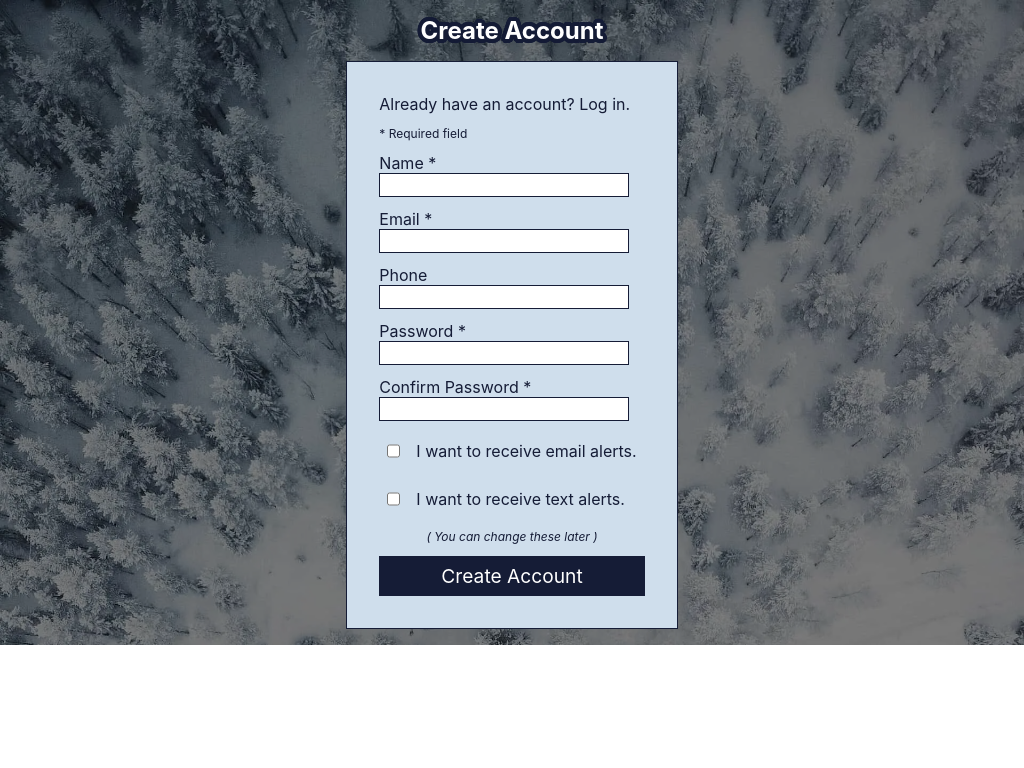
Scenario: Displays password validation error properly
expect the text "Password must be at least 6 characters with 1 letter and 1 number." is not shown: met
In the password field labelled "Password *": (504, 353) [379,341,629,365], type "test5"
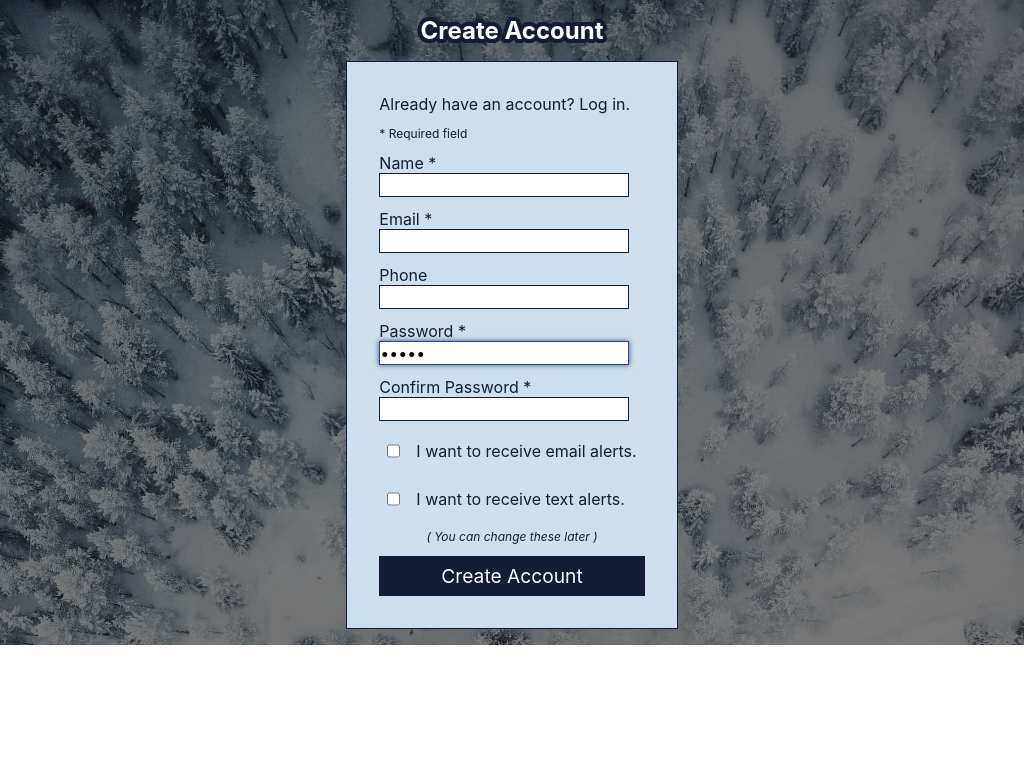
Click the element that starts with "Create Account": (512, 384) [0,0,1023,767]
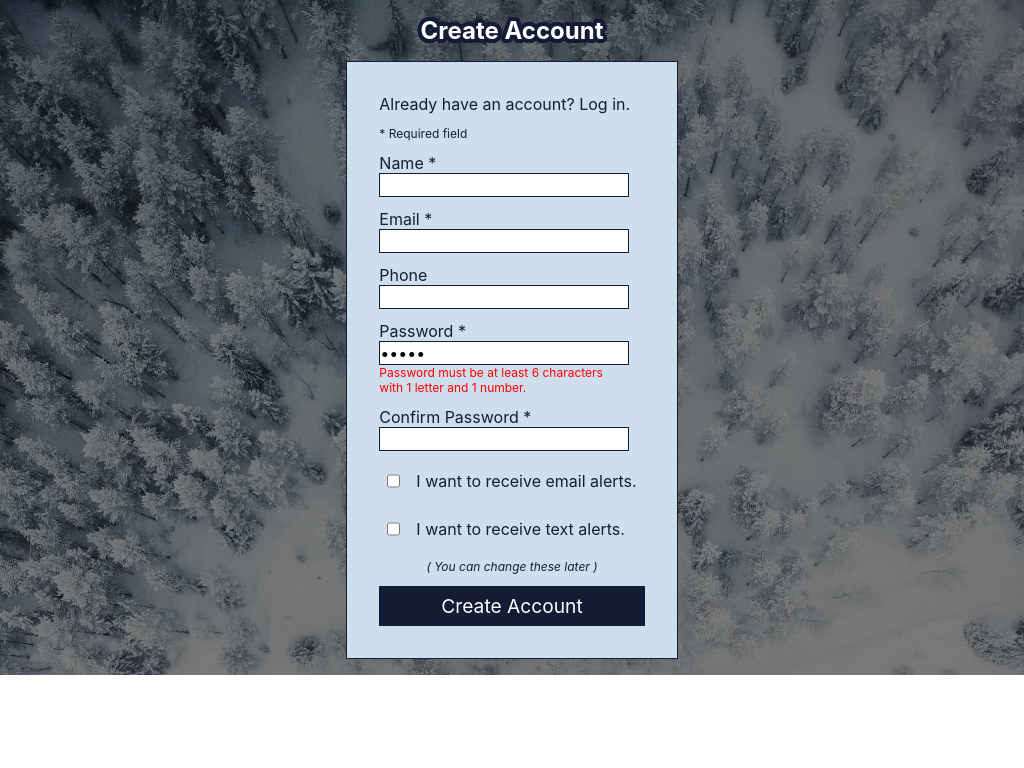
expect the text "Password must be at least 6 characters with 1 letter and 1 number." is shown: met, box [379,365,629,395]
Note: Acceptable password
In the password field labelled "Password *": (504, 353) [379,341,629,365], type "whatagreatpassword123"
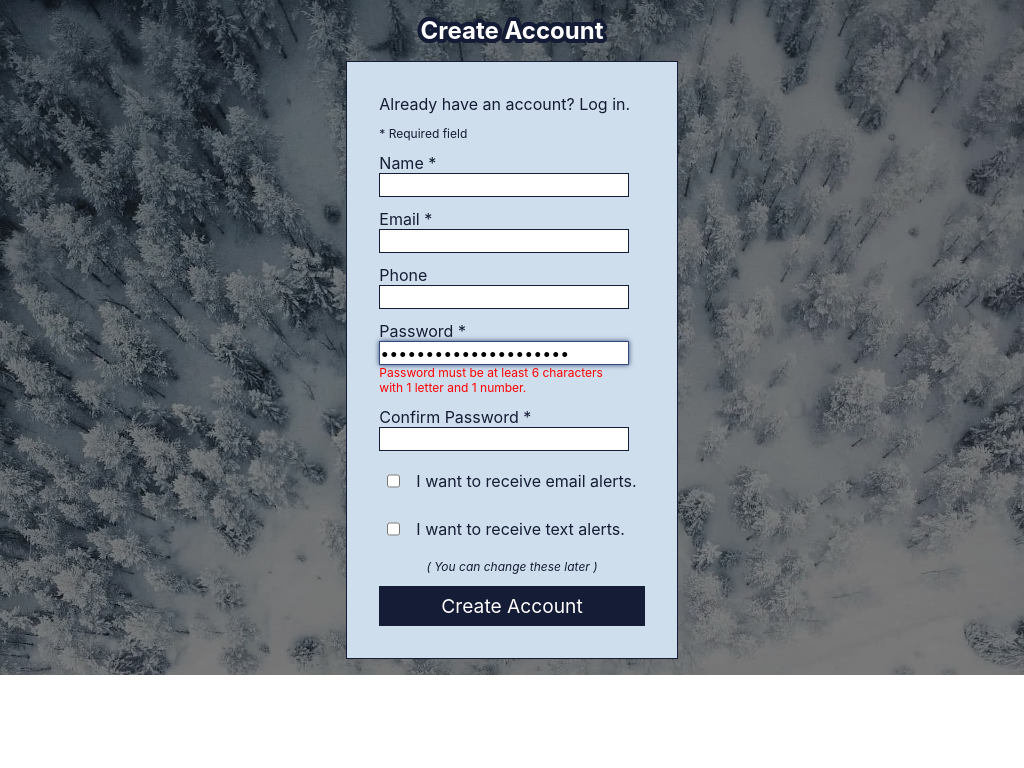
Click the element that starts with "Create Account": (512, 384) [0,0,1023,767]
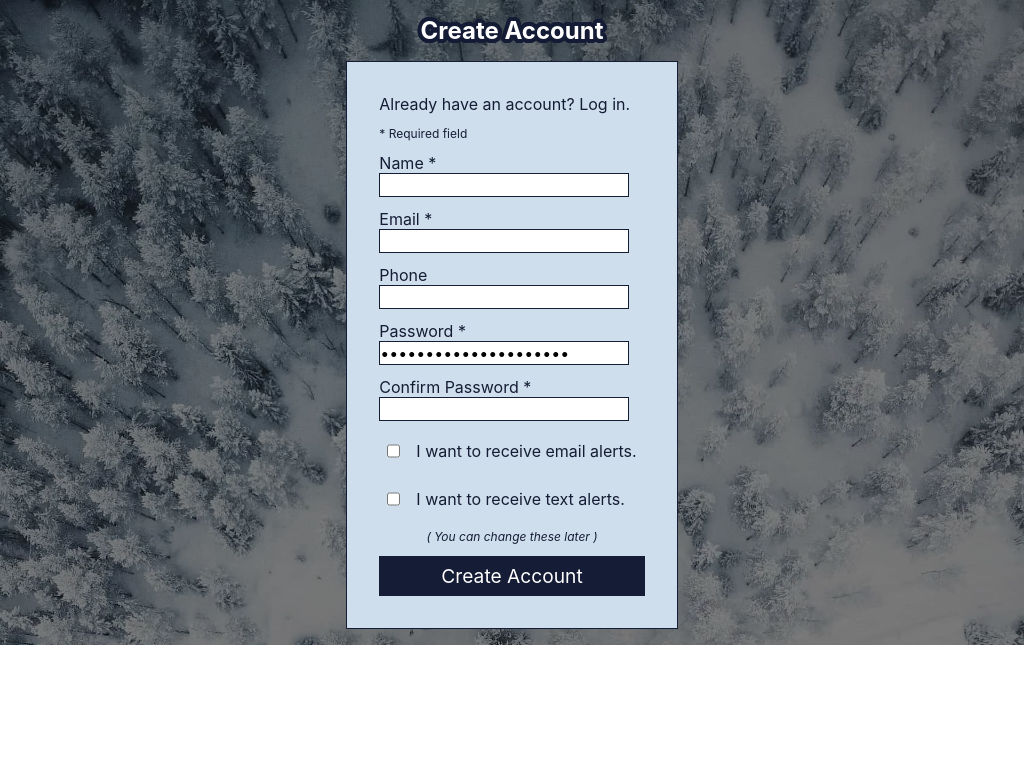
expect the text "Password must be at least 6 characters with 1 letter and 1 number." is gone: met
Note: Password without number
In the password field labelled "Password *": (504, 353) [379,341,629,365], type "longpassword"
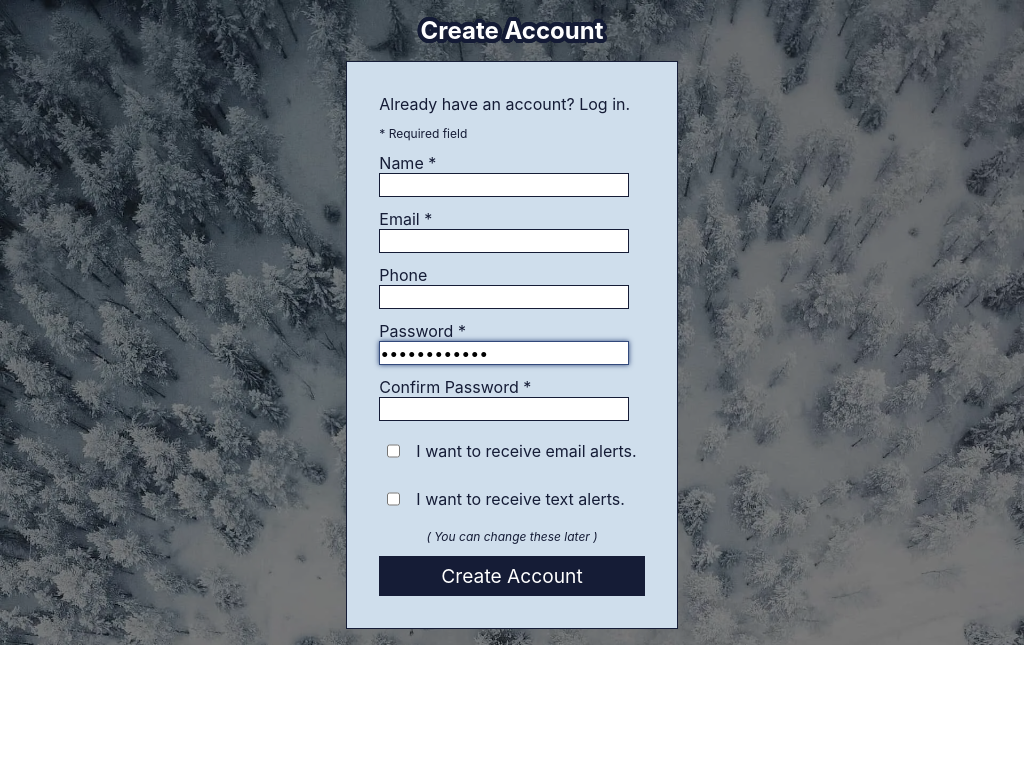
Click the element that starts with "Create Account": (512, 384) [0,0,1023,767]
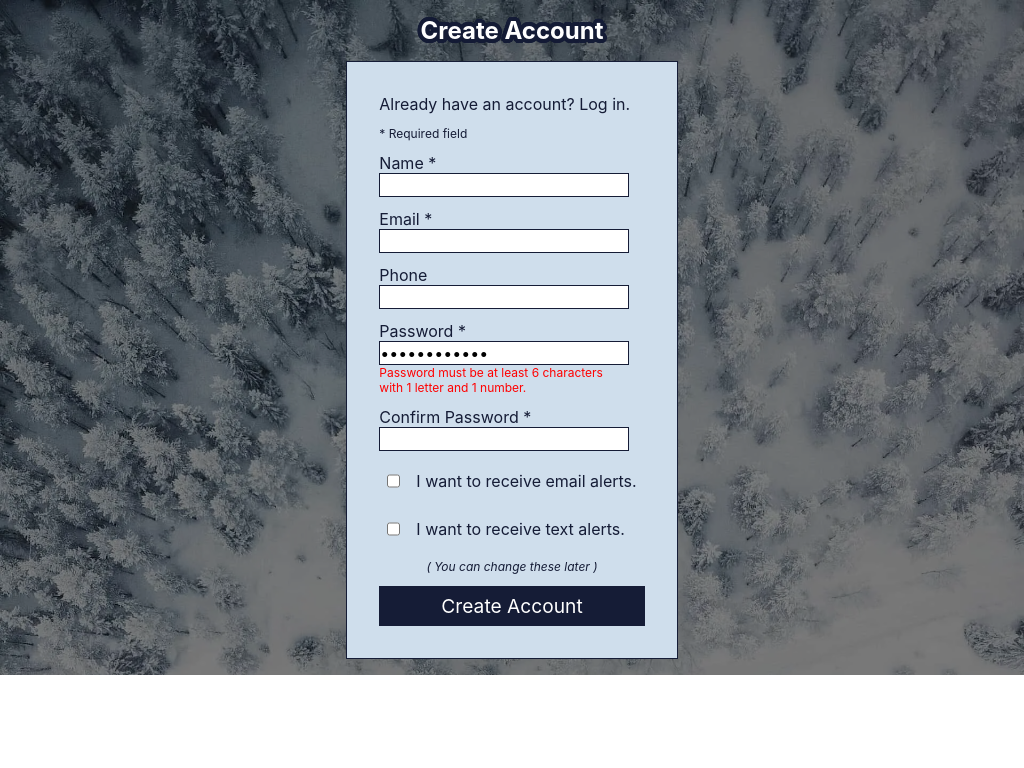
expect the text "Password must be at least 6 characters with 1 letter and 1 number." is shown: met, box [379,365,629,395]
